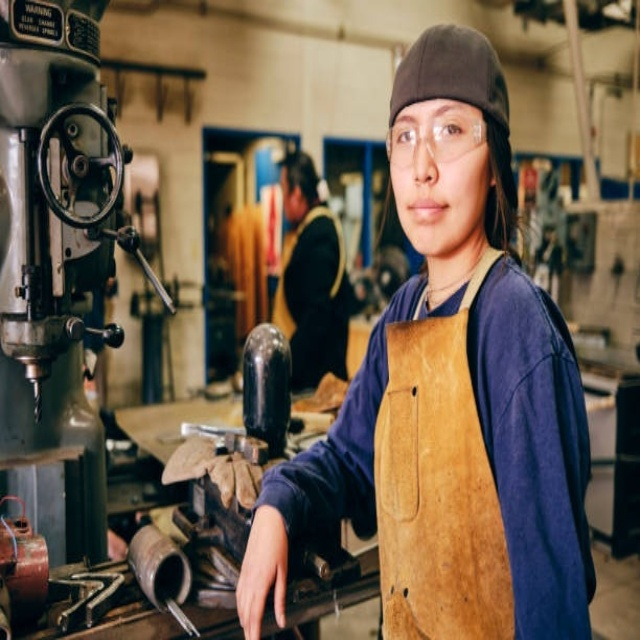Gafas: (385, 117, 487, 167)
Sin_guantes: (234, 509, 289, 640)
Sin_mascara: (402, 188, 455, 237)
